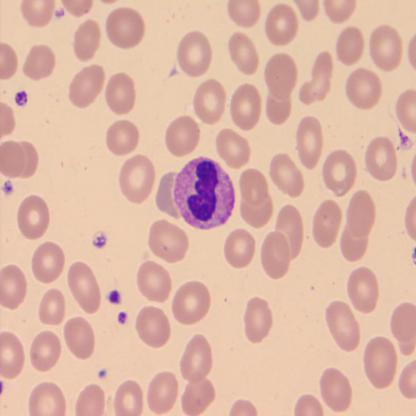Segmented neutrophil: (172, 154, 236, 232)
